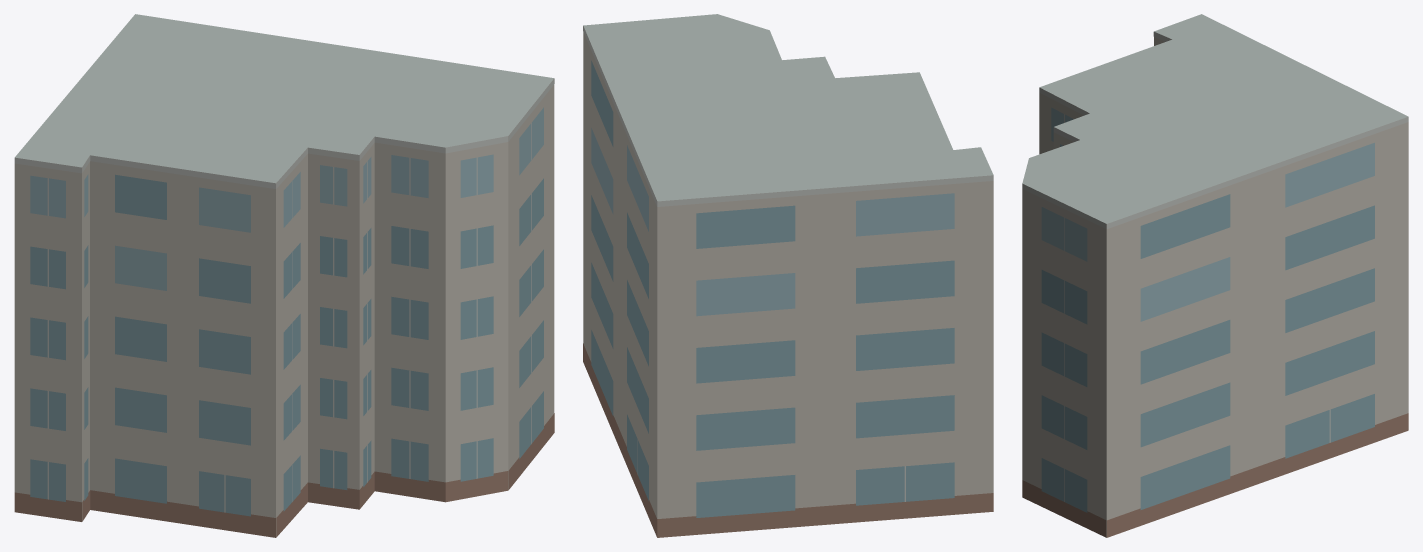
File: survey-upis-32956590.glb
3 views of the same model, side by side, from view 1: azimuth 30°, elevation 25°; view 2: azimuth 150°, elevation 25°; view 3: azimuth 270°, elevation 25° (orthographic). The views are drawn at different scales.
Parts seen in each view (by area): view 1: survey-upis-32956590.tmp; view 2: survey-upis-32956590.tmp; view 3: survey-upis-32956590.tmp.
Boxes of the visible parts, box(x1,y1,x2,y2) form: survey-upis-32956590.tmp: box(14, 14, 554, 537); survey-upis-32956590.tmp: box(583, 14, 993, 537); survey-upis-32956590.tmp: box(1022, 14, 1408, 537).
Size of the model in its own units: 20.96 by 14.6 by 16.3.
